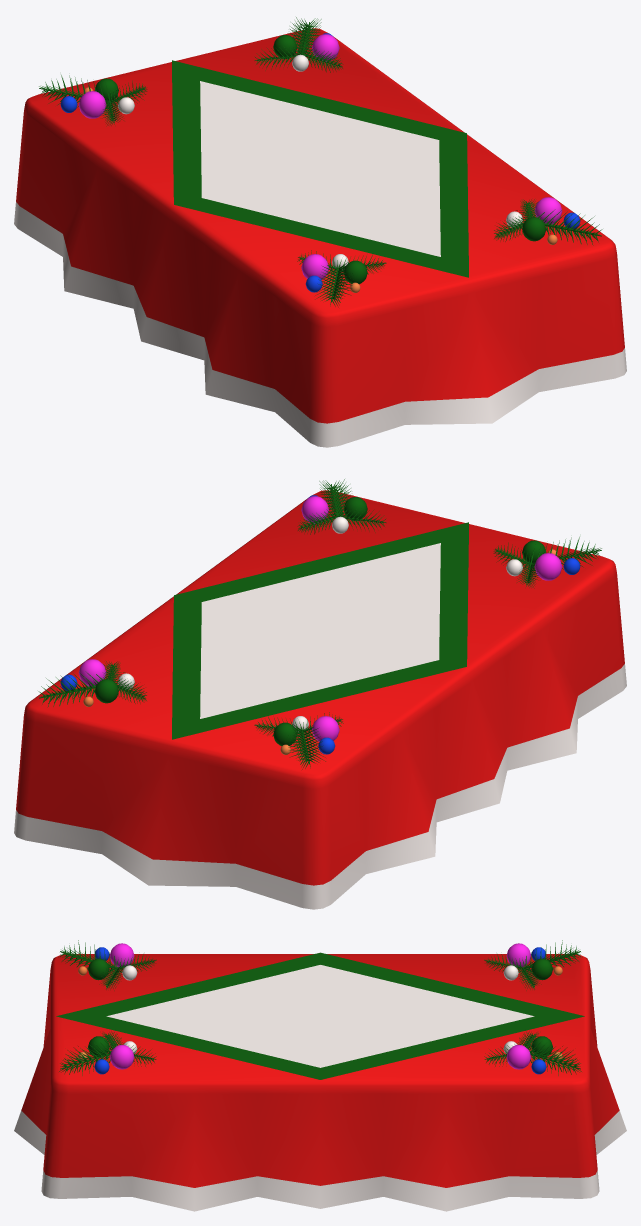
File: ban 4_10.FBX
The picture shows the model from 3 angles, top to bottom: view 1: azimuth 30°, elevation 25°; view 2: azimuth 150°, elevation 25°; view 3: azimuth 270°, elevation 25°; orthographic projection. The views are drawn at different scales.
Visible parts, largest first — view 1: Object1253; view 2: Object1253; view 3: Object1253.
Part boxes in pixels (left/top/right/bottom): Object1253: left=14, top=17, right=626, bottom=447; Object1253: left=14, top=479, right=626, bottom=909; Object1253: left=14, top=940, right=626, bottom=1211.
Bounding box in the file's own units: 3.37 × 1.32 × 5.41.
